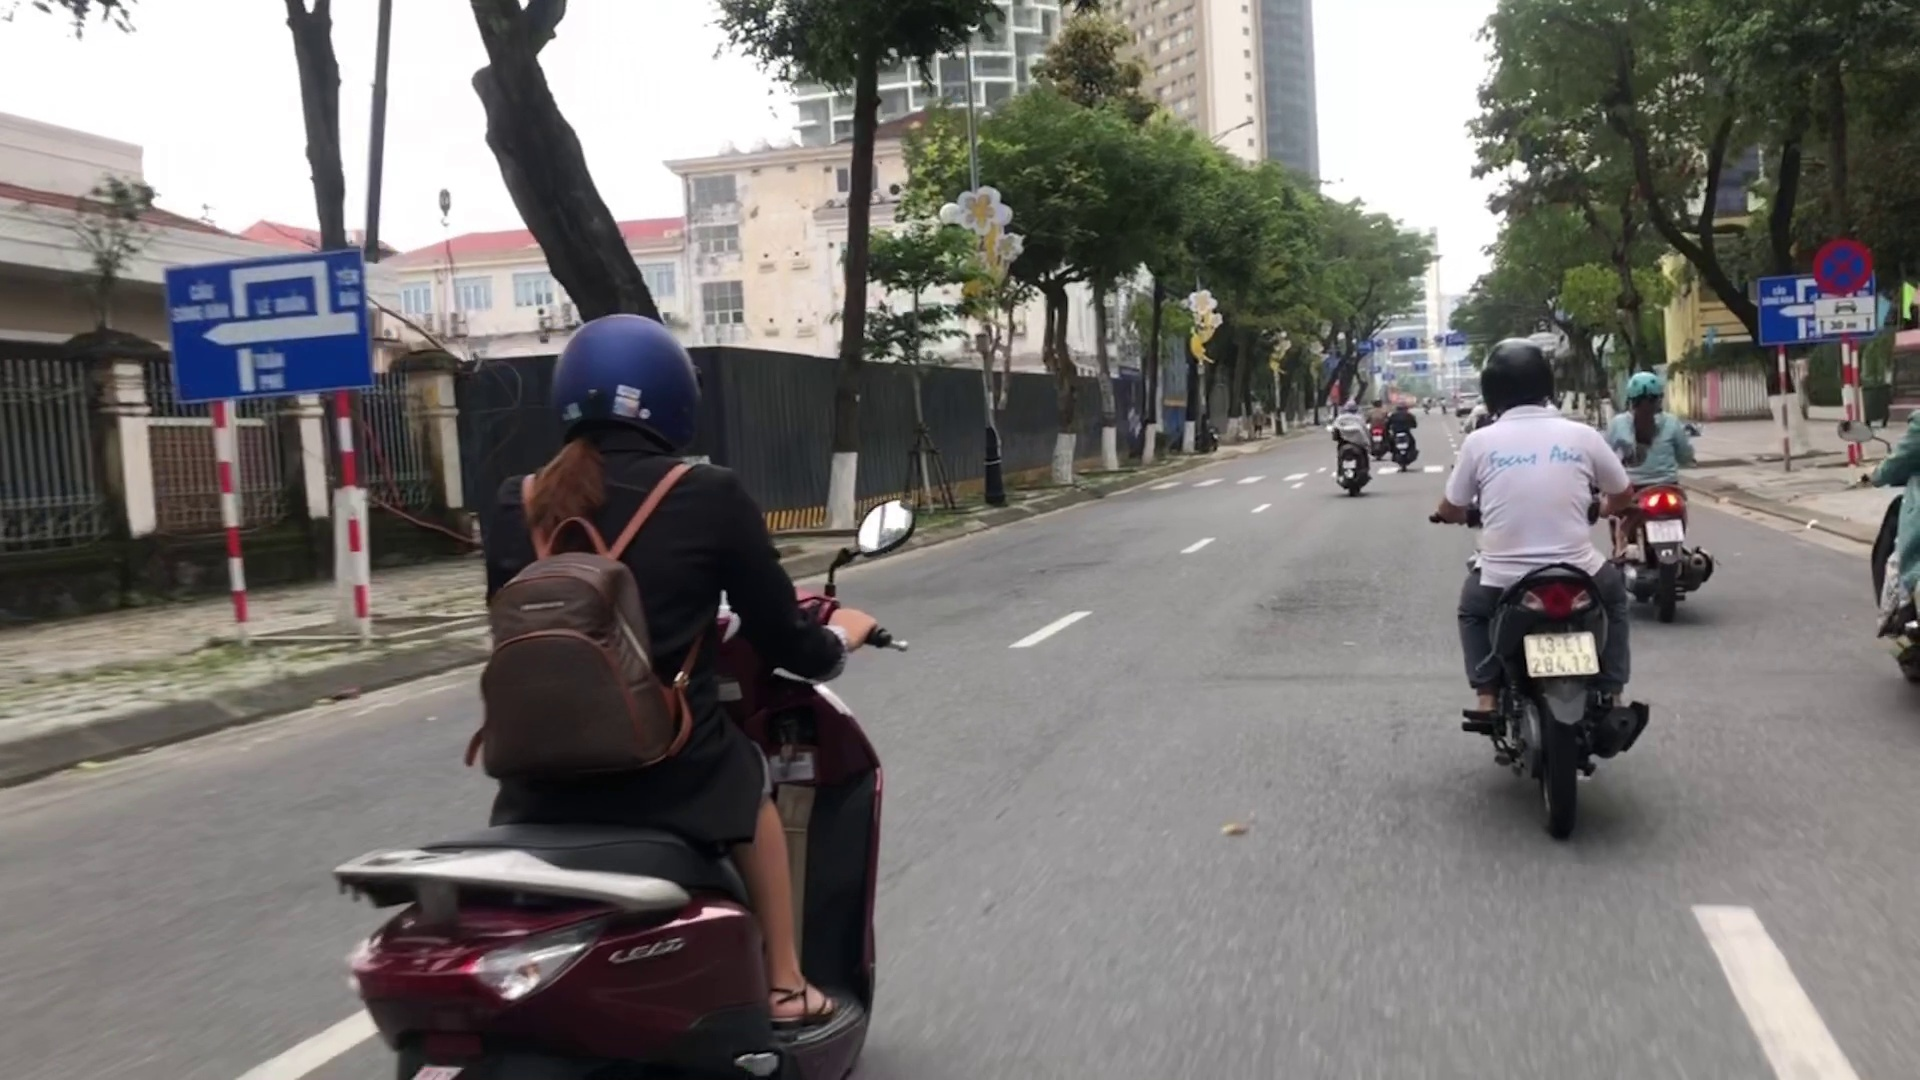Bien khac: (160, 251, 372, 407), (1815, 233, 1869, 298)
